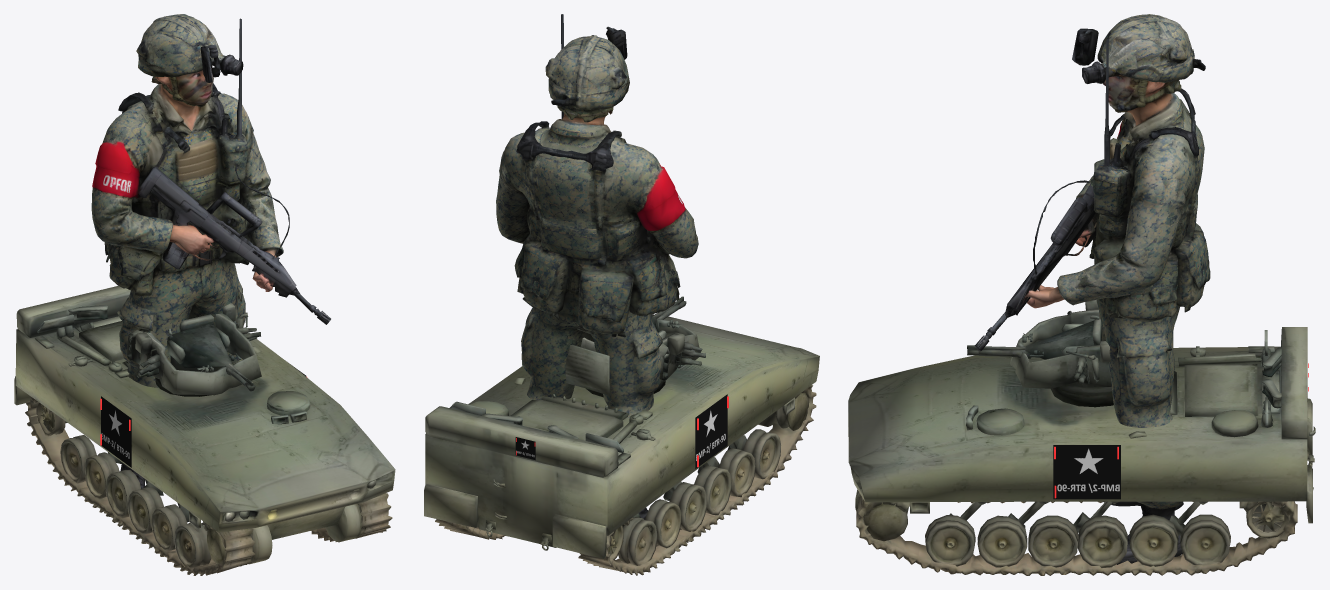
3 views of the same model, side by side, from view 1: azimuth 30°, elevation 25°; view 2: azimuth 150°, elevation 25°; view 3: azimuth 270°, elevation 25° (orthographic). The views are drawn at different scales.
Parts seen in each view (by area): view 1: tripo_node_b858fb1a.002, tripo_node_5e8306aa, tripo_node_b858fb1a.004, Plane.005; view 2: tripo_node_b858fb1a.002, tripo_node_5e8306aa, tripo_node_b858fb1a.004, Plane.005; view 3: tripo_node_b858fb1a.002, tripo_node_5e8306aa, tripo_node_b858fb1a.004, Plane.006.
Boxes of the visible parts, x1,y1,x2,y2 form: tripo_node_b858fb1a.002: [14, 286, 395, 575]; tripo_node_5e8306aa: [91, 14, 330, 488]; tripo_node_b858fb1a.004: [126, 303, 261, 396]; Plane.005: [100, 396, 131, 467]; tripo_node_b858fb1a.002: [424, 314, 819, 575]; tripo_node_5e8306aa: [496, 14, 698, 519]; tripo_node_b858fb1a.004: [565, 296, 705, 397]; Plane.005: [695, 394, 728, 468]; tripo_node_b858fb1a.002: [848, 327, 1315, 575]; tripo_node_5e8306aa: [975, 14, 1210, 564]; tripo_node_b858fb1a.004: [967, 300, 1113, 407]; Plane.006: [1053, 445, 1120, 499].
Bounding box in the file's own units: 1.36 × 3.42 × 2.8.
Materials: 4 (3 with a texture image).
